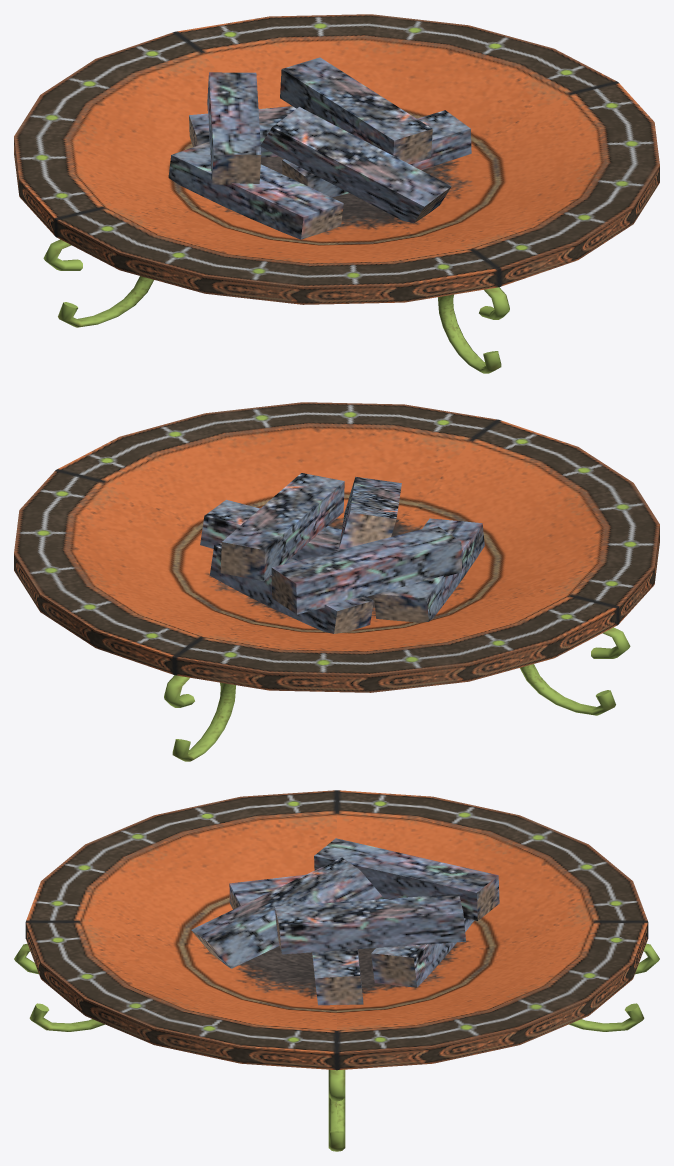
Rendered from fireBowl.fbx.
3 views of the same model, one above another, from view 1: azimuth 30°, elevation 25°; view 2: azimuth 150°, elevation 25°; view 3: azimuth 270°, elevation 25° (orthographic). The views are drawn at different scales.
Visible parts, largest first — view 1: fireBowl; view 2: fireBowl; view 3: fireBowl.
Part boxes in pixels (x1,y1,x2,y2): fireBowl: [14, 14, 659, 373]; fireBowl: [14, 402, 659, 761]; fireBowl: [14, 790, 659, 1151].
Bounding box in the file's own units: 10.38 × 2.63 × 10.38.
Materials: 1 (1 with a texture image).
